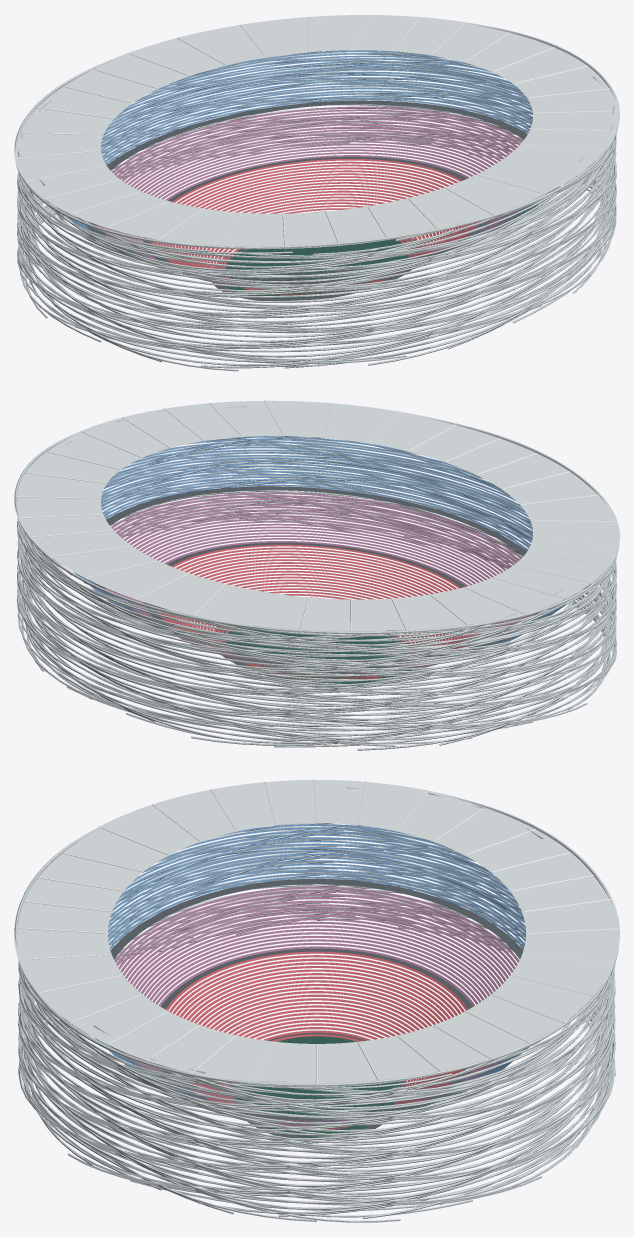
Rendered from nest_bowl-CPyK6rCo.glb.
The picture shows the model from 3 angles, top to bottom: view 1: azimuth 30°, elevation 25°; view 2: azimuth 150°, elevation 25°; view 3: azimuth 270°, elevation 25°; orthographic projection. The views are drawn at different scales.
Visible parts, largest first — view 1: Canopy — pale inner panels, Outer lattice hoop 3, Middle concourse, Field — open stage footprint, Crossed shell rib A 05, Crossed shell rib A 01, Crossed shell rib B 11, Crossed shell rib A 03, Crossed shell rib B 15, Crossed shell rib B 14, Crossed shell rib A 18, Crossed shell rib A 21 (+89 smaller); view 2: Canopy — pale inner panels, Outer lattice hoop 3, Crossed shell rib A 13, Crossed shell rib A 06, Crossed shell rib A 12, Crossed shell rib A 10, Middle concourse, Crossed shell rib A 05, Crossed shell rib B 20, Crossed shell rib A 11, Crossed shell rib A 14, Crossed shell rib B 21 (+87 smaller); view 3: Canopy — pale inner panels, Middle concourse, Outer lattice hoop 3, Crossed shell rib B 06, Crossed shell rib B 04, Crossed shell rib A 18, Crossed shell rib B 11, Crossed shell rib B 10, Crossed shell rib B 03, Crossed shell rib B 09, Crossed shell rib B 08, Crossed shell rib A 21 (+89 smaller).
Boxes of the visible parts, left/top/right/bottom form: Canopy — pale inner panels: left=14, top=15, right=619, bottom=248; Outer lattice hoop 3: left=15, top=23, right=618, bottom=249; Middle concourse: left=86, top=100, right=545, bottom=278; Field — open stage footprint: left=222, top=238, right=414, bottom=298; Crossed shell rib A 05: left=21, top=93, right=612, bottom=360; Crossed shell rib A 01: left=28, top=78, right=616, bottom=343; Crossed shell rib B 11: left=19, top=97, right=610, bottom=362; Crossed shell rib A 03: left=17, top=87, right=602, bottom=352; Crossed shell rib B 15: left=21, top=80, right=609, bottom=347; Crossed shell rib B 14: left=24, top=83, right=614, bottom=348; Crossed shell rib A 18: left=23, top=62, right=614, bottom=329; Crossed shell rib A 21: left=21, top=74, right=606, bottom=336; Canopy — pale inner panels: left=14, top=400, right=619, bottom=634; Outer lattice hoop 3: left=14, top=416, right=618, bottom=634; Crossed shell rib A 13: left=23, top=410, right=613, bottom=740; Crossed shell rib A 06: left=19, top=451, right=610, bottom=715; Crossed shell rib A 12: left=18, top=470, right=609, bottom=735; Crossed shell rib A 10: left=23, top=462, right=607, bottom=727; Middle concourse: left=88, top=486, right=544, bottom=662; Crossed shell rib A 05: left=17, top=445, right=605, bottom=710; Crossed shell rib B 20: left=26, top=467, right=616, bottom=736; Crossed shell rib A 11: left=17, top=465, right=606, bottom=730; Crossed shell rib A 14: left=27, top=406, right=616, bottom=744; Crossed shell rib B 21: left=28, top=464, right=616, bottom=731; Canopy — pale inner panels: left=14, top=780, right=619, bottom=1087; Middle concourse: left=107, top=879, right=523, bottom=1120; Outer lattice hoop 3: left=14, top=795, right=618, bottom=1086; Crossed shell rib B 06: left=49, top=849, right=604, bottom=1193; Crossed shell rib B 04: left=31, top=860, right=615, bottom=1203; Crossed shell rib A 18: left=24, top=856, right=611, bottom=1203; Crossed shell rib B 11: left=35, top=832, right=615, bottom=1174; Crossed shell rib B 10: left=28, top=839, right=615, bottom=1181; Crossed shell rib B 03: left=26, top=792, right=613, bottom=1209; Crossed shell rib B 09: left=23, top=843, right=611, bottom=1186; Crossed shell rib B 08: left=19, top=845, right=606, bottom=1190; Crossed shell rib A 21: left=21, top=871, right=609, bottom=1217.
Size of the model in its own units: 348 by 82.21 by 290.
